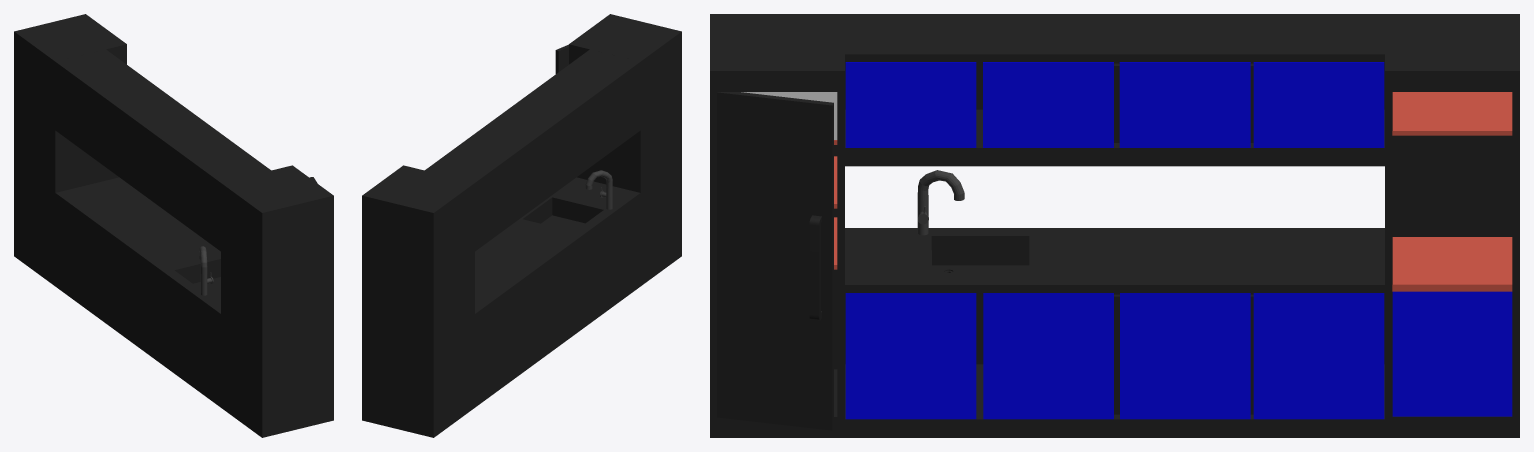
The model's file is keuken.FBX.
The picture shows the model from 3 angles, left to right: view 1: azimuth 30°, elevation 25°; view 2: azimuth 150°, elevation 25°; view 3: azimuth 270°, elevation 25°; orthographic projection. The views are drawn at different scales.
Visible parts, largest first — view 1: Box001, Box007, Box014, Box016, Cylinder001; view 2: Box016, Box007, Box014, Box001, Cylinder001, Box002; view 3: Box013, Box007, Box015, Box002, Box014, Box016, Box001, Object001, Box019, Box017, Cylinder001.
Part boxes in pixels (box(x1,y1,x2,y2)): Box001: box(221, 165, 333, 437); Box007: box(55, 177, 220, 407); Box014: box(55, 49, 270, 251); Box016: box(14, 14, 126, 285); Cylinder001: box(199, 246, 213, 295); Box016: box(362, 165, 474, 437); Box007: box(475, 177, 640, 407); Box014: box(425, 49, 640, 251); Box001: box(569, 14, 681, 285); Cylinder001: box(585, 170, 612, 209); Box002: box(555, 44, 568, 73); Box013: box(845, 293, 1384, 419); Box007: box(845, 228, 1384, 437); Box015: box(845, 62, 1384, 147); Box002: box(717, 92, 833, 430); Box014: box(845, 14, 1384, 166); Box016: box(1385, 14, 1519, 437); Box001: box(710, 14, 844, 437); Object001: box(1392, 291, 1512, 416); Box019: box(1392, 237, 1512, 291); Box017: box(1392, 92, 1512, 135); Cylinder001: box(917, 170, 964, 235).
Bounding box in the file's own units: 12.96 × 30 × 60.
